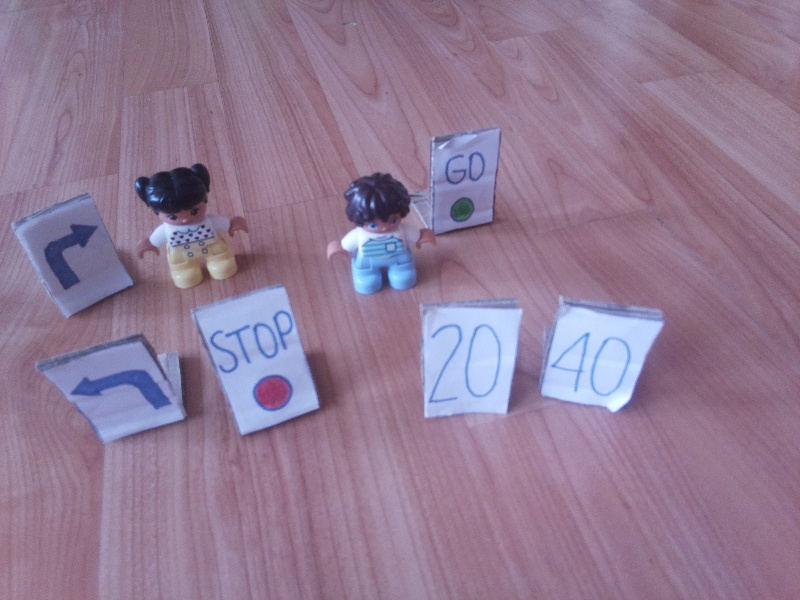20: (430, 317, 504, 408)
40: (550, 322, 632, 403)
go: (441, 150, 487, 224)
person: (328, 172, 438, 306), (127, 163, 248, 283)
stop: (211, 311, 302, 413)
turn left: (69, 361, 175, 418)
turn right: (39, 221, 108, 288)
